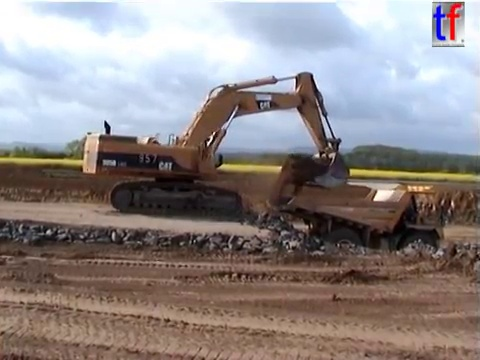excavator: (79, 69, 352, 219)
truck: (264, 179, 453, 277)
